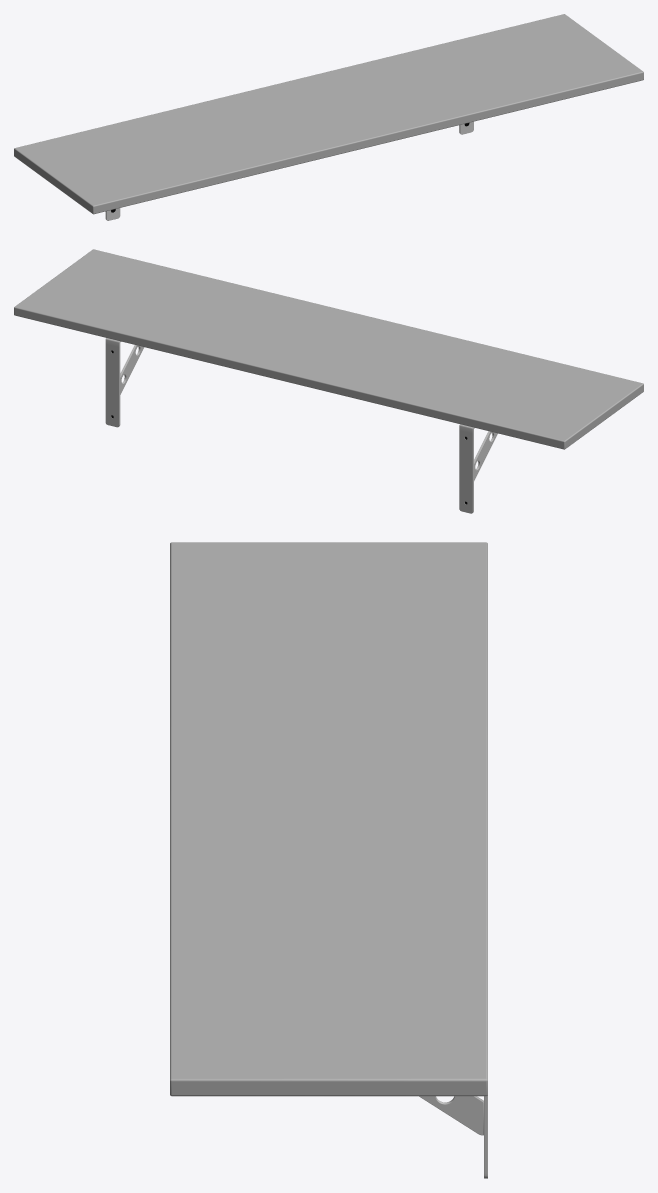
File: Shelf_Wood.fbx
The picture shows the model from 3 angles, top to bottom: view 1: azimuth 30°, elevation 25°; view 2: azimuth 150°, elevation 25°; view 3: azimuth 270°, elevation 25°; orthographic projection. The views are drawn at different scales.
Visible parts, largest first — view 1: Shelf_Wood_4.002; view 2: Shelf_Wood_4.002; view 3: Shelf_Wood_4.002.
Boxes of the visible parts, x1,y1,x2,y2 form: Shelf_Wood_4.002: (14,14,643,220); Shelf_Wood_4.002: (14,249,643,513); Shelf_Wood_4.002: (170,542,487,1178).
Bounding box in the file's own units: 120 × 19.8 × 30.
1 material, 1 textured.
